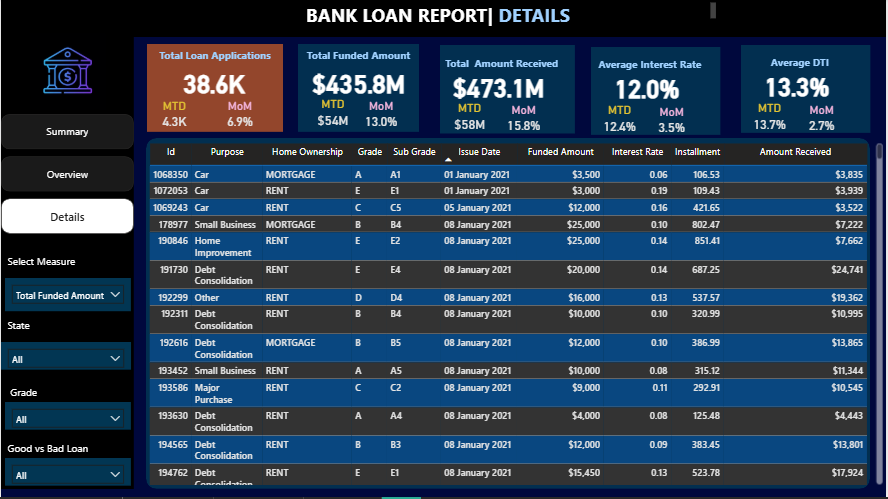

Layout of this report page (visuals, bound fields, positions):
{"tool":"powerbi","page":{"name":"Details","canvas":[1280,720],"ordinal":2},"visuals":[{"type":"shape","box":[0,0,1279.5,54.9],"z":0},{"type":"shape","box":[210.3,65.1,196.6,127.2],"z":0,"group":"g1"},{"type":"shape","box":[430.1,65.1,174.9,127.2],"z":0,"group":"g2"},{"type":"shape","box":[634.8,66.5,195.1,127.9],"z":0,"group":"g3"},{"type":"shape","box":[1069.5,66.5,187.1,127.2],"z":0,"group":"g5"},{"type":"shape","box":[852.6,69.4,187.1,127.2],"z":0,"group":"g4"},{"type":"shape","box":[0,53.5,192,654.9],"z":1000},{"type":"card","fields":{"Values":["_Measures.Total Loan Application"]},"box":[209.6,85.2,196.9,69.7],"z":1000,"group":"g1"},{"type":"card","fields":{"Values":["_Measures.Total Funded Amount"]},"box":[429.4,85.2,175.2,69.7],"z":1000,"group":"g2"},{"type":"card","fields":{"Values":["_Measures.Average DTI"]},"box":[1056.9,90.3,187.4,69.7],"z":1000,"group":"g5"},{"type":"card","fields":{"Values":["_Measures.Total Amount Received"]},"box":[621.7,90.4,195.4,70.1],"z":1000,"group":"g3"},{"type":"card","fields":{"Values":["_Measures.Avg Interest Rate"]},"box":[840,93.2,187.4,69.7],"z":1000,"group":"g4"},{"type":"textbox","box":[210.3,65.1,196.6,40.5],"z":2000,"group":"g1"},{"type":"textbox","box":[430.1,65.1,174.9,40.5],"z":2000,"group":"g2"},{"type":"textbox","box":[621.7,75.9,204.8,36.3],"z":2000,"group":"g3"},{"type":"textbox","box":[1056.9,75.9,196.4,36.1],"z":2000,"group":"g5"},{"type":"textbox","box":[840,78.8,196.4,36.1],"z":2000,"group":"g4"},{"type":"shape","box":[209.6,201,1046.7,507.5],"z":2000},{"type":"card","title":"MTD","fields":{"Values":["_Measures.MTD Total Funded Amount"]},"box":[444,141.9,71.5,50.1],"z":3000,"group":"g2"},{"type":"card","title":"MTD","fields":{"Values":["_Measures.MTD Loan Applications"]},"box":[213.6,144.6,73.1,47.7],"z":3000,"group":"g1"},{"type":"card","title":"MTD","fields":{"Values":["_Measures.MTD Average DTI"]},"box":[1072.5,146.9,76.5,50.1],"z":3000,"group":"g5"},{"type":"card","title":"MTD","fields":{"Values":["_Measures.MTD Total Amount Received"]},"box":[638,147.3,79.7,50.3],"z":3000,"group":"g3"},{"type":"card","title":"MTD","fields":{"Values":["_Measures.MTD Avg Interest Rate"]},"box":[855.6,149.8,76.5,50.1],"z":3000,"group":"g4"},{"type":"textbox","box":[0,381.7,79.5,40.5],"z":3000},{"type":"textbox","box":[436.2,0,602.5,44.7],"z":4000},{"type":"card","title":"MoM","fields":{"Values":["_Measures.MoM Loan Application"]},"box":[307.8,144.6,74.8,47.7],"z":4000,"group":"g1"},{"type":"card","title":"MoM","fields":{"Values":["_Measures.MoM Total Funded Amount"]},"box":[516.8,144.6,66.5,47.7],"z":4000,"group":"g2"},{"type":"card","title":"MoM","fields":{"Values":["_Measures.MoM Avg DTI"]},"box":[1150.4,149.6,71.1,47.7],"z":4000,"group":"g5"},{"type":"card","title":"MoM","fields":{"Values":["_Measures.MoM Total Amount Received"]},"box":[719.2,150.1,74.2,48],"z":4000,"group":"g3"},{"type":"card","title":"MoM","fields":{"Values":["_Measures.MoM Avg Interest Rate"]},"box":[933.5,152.5,71.1,47.7],"z":4000,"group":"g4"},{"type":"group","id":"g1","title":"Group 1","box":[209.6,65.1,196.6,127.2],"z":5000},{"type":"group","id":"g2","title":"Group 1","box":[429.4,65.1,176.4,127.2],"z":6000},{"type":"group","id":"g3","title":"Group 1","box":[621.7,66.5,208.2,131.6],"z":7000},{"type":"group","id":"g4","title":"Group 1","box":[840,69.4,199.5,130.1],"z":8000},{"type":"group","id":"g5","title":"Group 1","box":[1056.9,66.5,199.5,130.1],"z":9000},{"type":"slicer","fields":{"Values":["bank_loan_data.address_state"]},"box":[0,422.2,188,40.5],"z":10000},{"type":"slicer","fields":{"Values":["bank_loan_data.grade"]},"box":[0,552.3,182.2,40.5],"z":11000},{"type":"textbox","box":[4.3,511.8,79.5,40.5],"z":12000},{"type":"textbox","box":[4.3,633.3,167.7,40.5],"z":13000},{"type":"slicer","fields":{"Values":["bank_loan_data.Good vs Bad Loan"]},"box":[5.8,663.6,182.2,40.5],"z":14000},{"type":"tableEx","fields":{"Values":["bank_loan_data.id","bank_loan_data.purpose","bank_loan_data.home_ownership","bank_loan_data.grade","bank_loan_data.sub_grade","bank_loan_data.issue_date","_Measures.Total Funded Amount","Sum(bank_loan_data.int_rate)","Sum(bank_loan_data.installment)","_Measures.Total Amount Received"]},"box":[209.6,203.9,1069.9,503.1],"z":17000},{"type":"image","box":[0,31.8,193.7,120],"z":18000},{"type":"pageNavigator","box":[0,176.4,192.3,173.5],"z":19000}]}

Visuals, with their boxes on the page's 1280x720 design canvas (x1, y1, x2, y2). These are canvas units, not pixel positions in the 888x499 screenshot, which may show the page scaled, cropped or inside an application window:
shape: region(0, 0, 1280, 55)
shape: region(210, 65, 407, 192)
shape: region(430, 65, 605, 192)
shape: region(635, 66, 830, 194)
shape: region(1070, 66, 1257, 194)
shape: region(853, 69, 1040, 197)
shape: region(0, 54, 192, 708)
card - _Measures.Total Loan Application: region(210, 85, 406, 155)
card - _Measures.Total Funded Amount: region(429, 85, 605, 155)
card - _Measures.Average DTI: region(1057, 90, 1244, 160)
card - _Measures.Total Amount Received: region(622, 90, 817, 160)
card - _Measures.Avg Interest Rate: region(840, 93, 1027, 163)
textbox: region(210, 65, 407, 106)
textbox: region(430, 65, 605, 106)
textbox: region(622, 76, 826, 112)
textbox: region(1057, 76, 1253, 112)
textbox: region(840, 79, 1036, 115)
shape: region(210, 201, 1256, 708)
"MTD" card: region(444, 142, 516, 192)
"MTD" card: region(214, 145, 287, 192)
"MTD" card: region(1072, 147, 1149, 197)
"MTD" card: region(638, 147, 718, 198)
"MTD" card: region(856, 150, 932, 200)
textbox: region(0, 382, 80, 422)
textbox: region(436, 0, 1039, 45)
"MoM" card: region(308, 145, 383, 192)
"MoM" card: region(517, 145, 583, 192)
"MoM" card: region(1150, 150, 1222, 197)
"MoM" card: region(719, 150, 793, 198)
"MoM" card: region(934, 152, 1005, 200)
"Group 1" group: region(210, 65, 406, 192)
"Group 1" group: region(429, 65, 606, 192)
"Group 1" group: region(622, 66, 830, 198)
"Group 1" group: region(840, 69, 1040, 200)
"Group 1" group: region(1057, 66, 1256, 197)
slicer - bank_loan_data.address_state: region(0, 422, 188, 463)
slicer - bank_loan_data.grade: region(0, 552, 182, 593)
textbox: region(4, 512, 84, 552)
textbox: region(4, 633, 172, 674)
slicer - bank_loan_data.Good vs Bad Loan: region(6, 664, 188, 704)
tableEx - bank_loan_data.id x bank_loan_data.purpose: region(210, 204, 1280, 707)
image: region(0, 32, 194, 152)
pageNavigator: region(0, 176, 192, 350)
